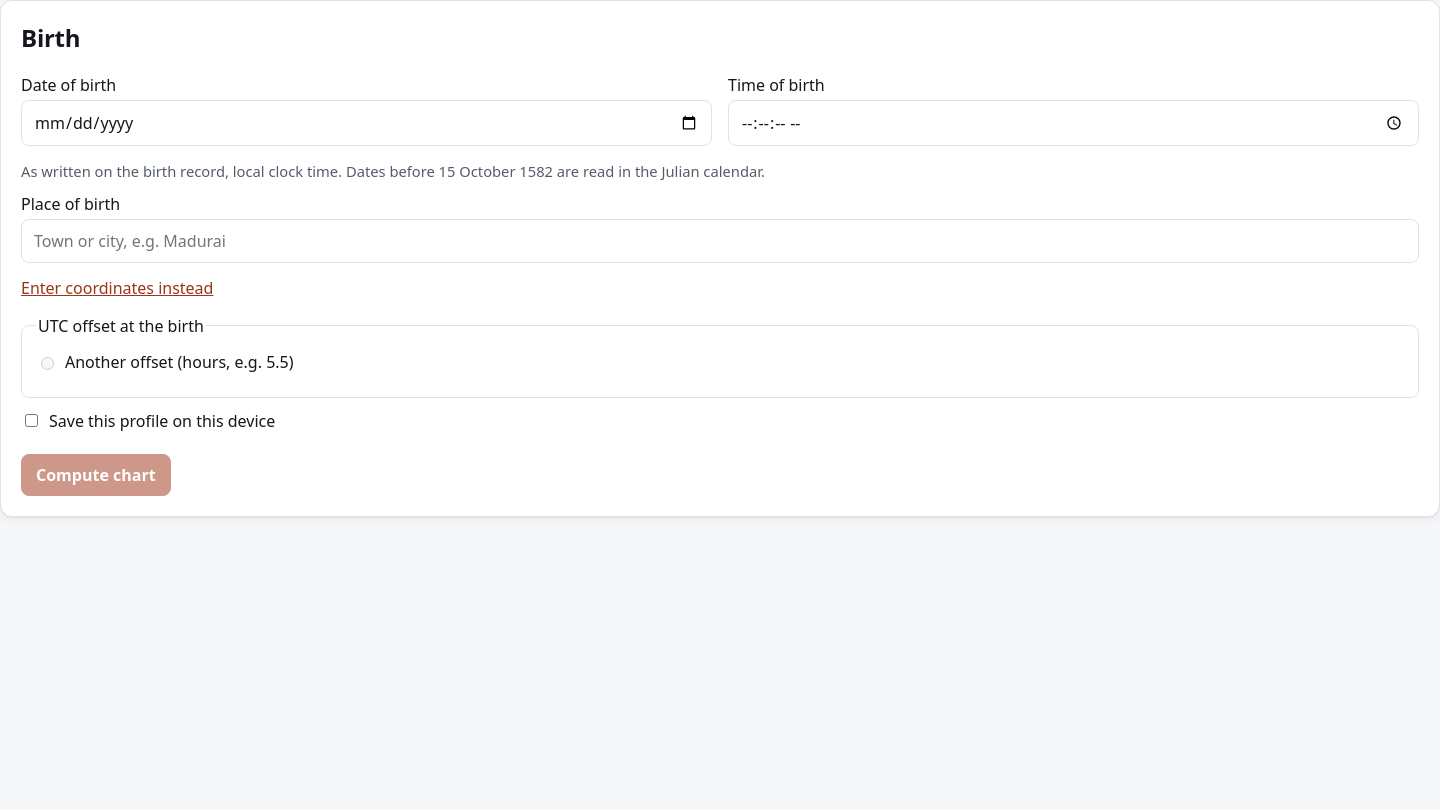
BirthForm › offers nothing to pick for a time that never existed
In the date field labelled "Date of birth": coordinates (366, 123) [21,100,712,146], type "1943-05-05"
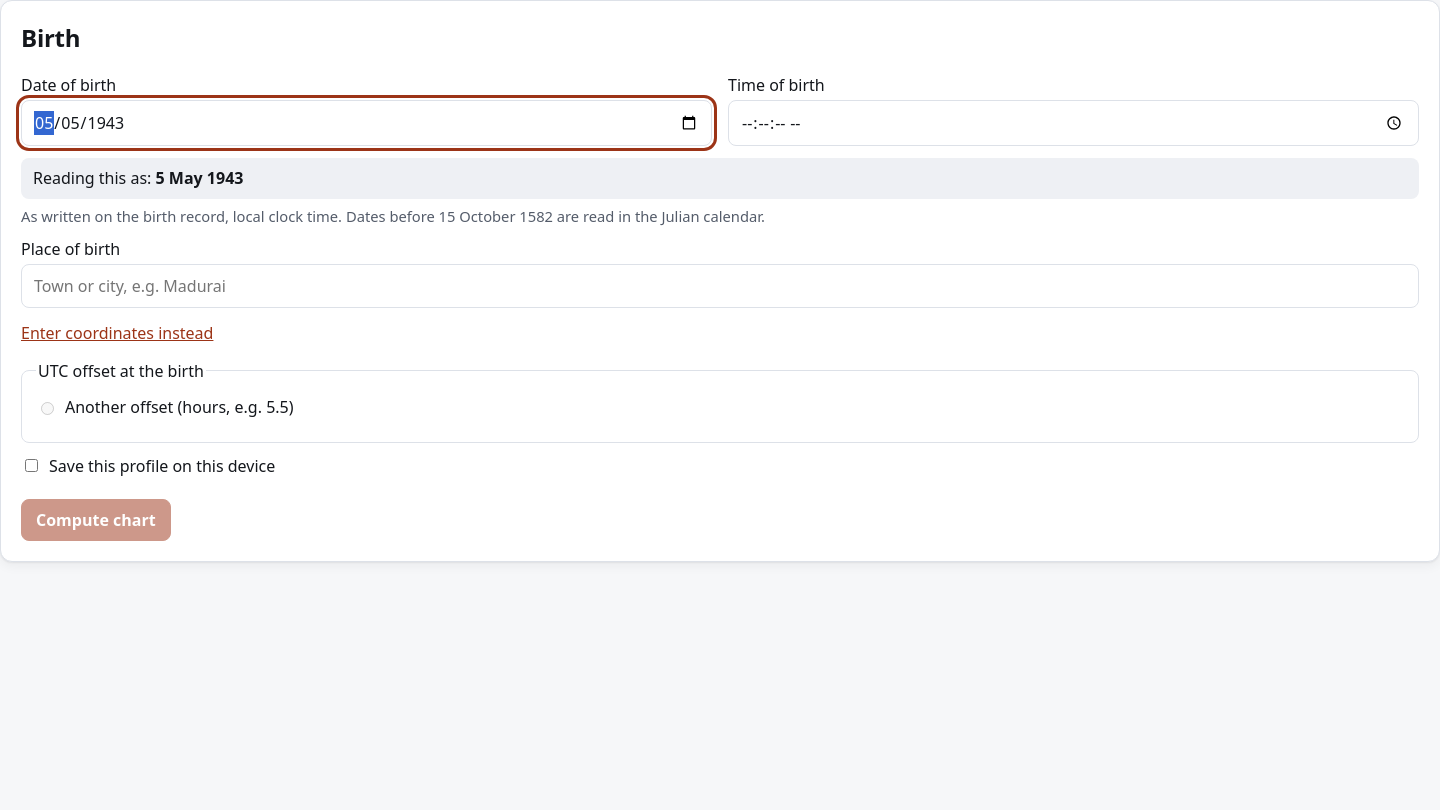
In the time field labelled "Time of birth": coordinates (1074, 123) [728,100,1419,146], type "14:00"
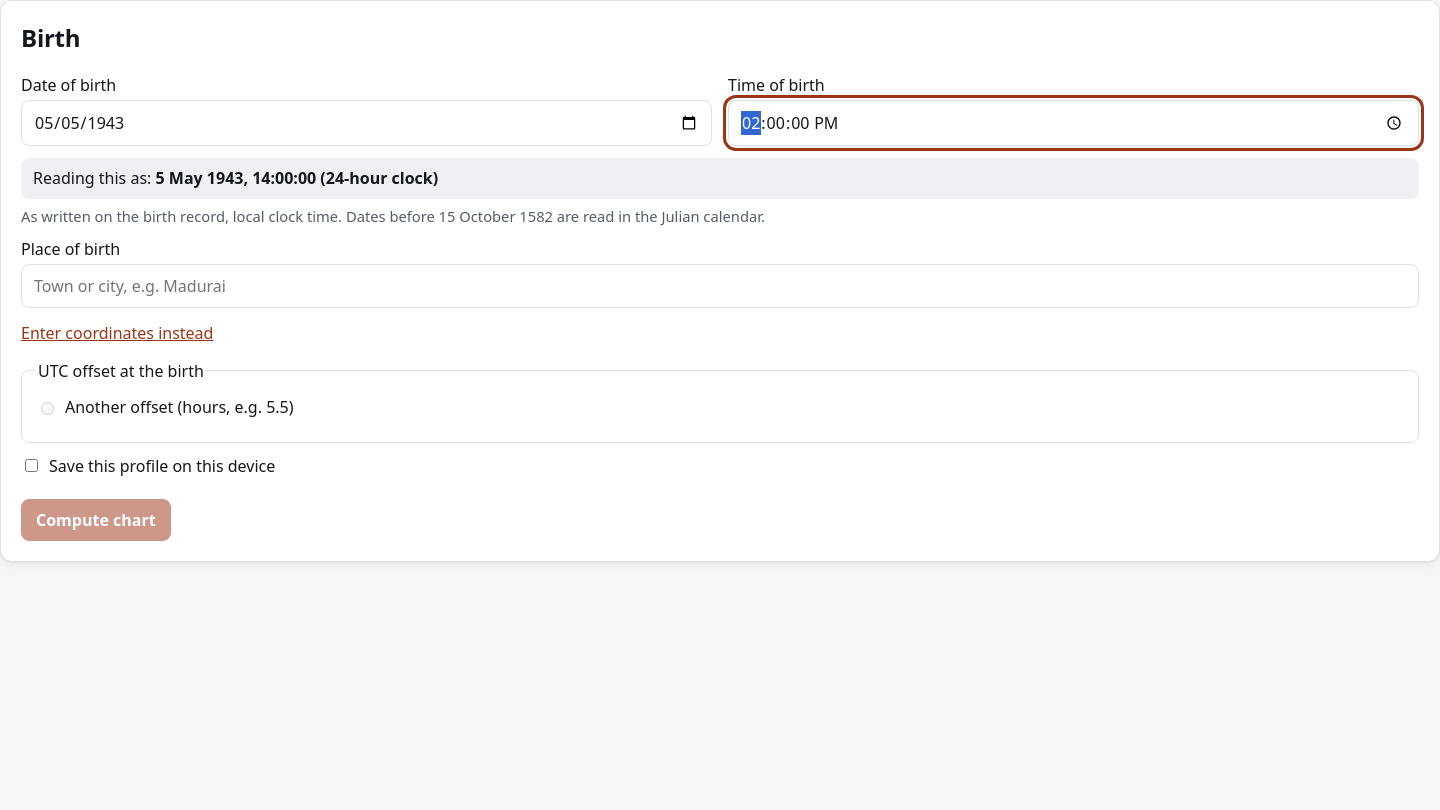
In the field with placeholder "Town or city, e.g. Madurai": coordinates (720, 286) [21,264,1419,308], type "Chennai"
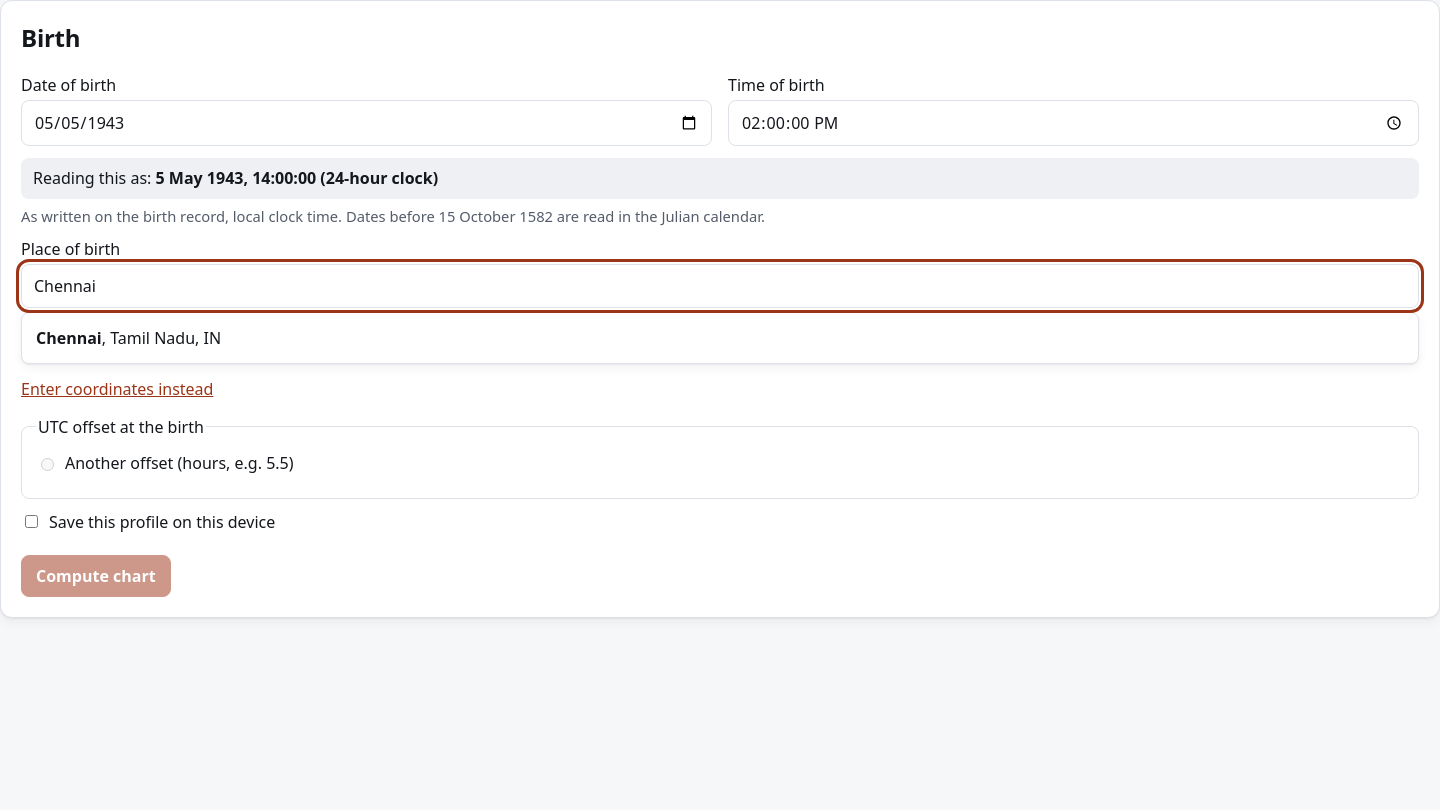
Click the button "Chennai, Tamil Nadu, IN": coordinates (69, 338) [26,316,1414,358]
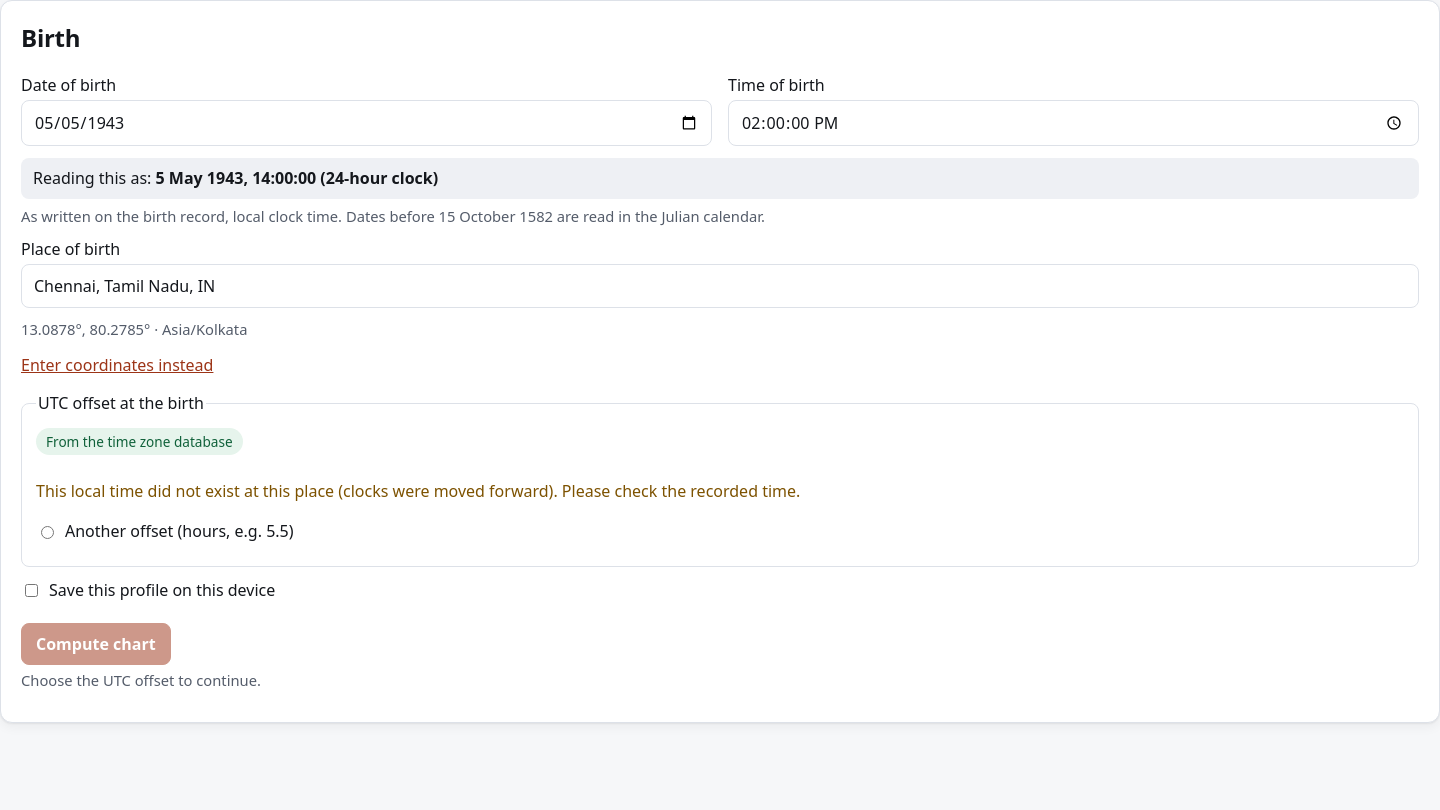
Check: the button "Compute chart" is disabled, box [21,623,171,665]
Check: the text "did not exist" is shown, box [36,480,800,502]
